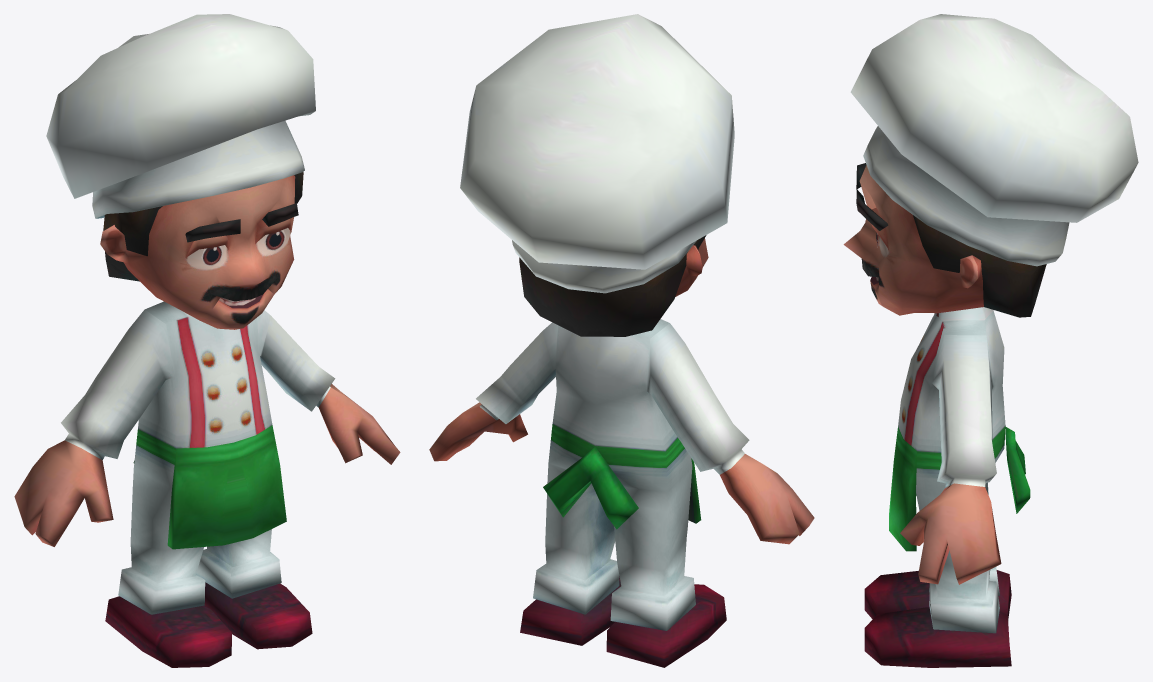
The model's file is chelf.fbx.
The picture shows the model from 3 angles, left to right: view 1: azimuth 30°, elevation 25°; view 2: azimuth 150°, elevation 25°; view 3: azimuth 270°, elevation 25°; orthographic projection.
Parts seen in each view (by area): view 1: Player_Character; view 2: Player_Character; view 3: Player_Character.
Boxes of the visible parts, left/top/right/bottom form: Player_Character: left=14, top=14, right=400, bottom=667; Player_Character: left=429, top=14, right=814, bottom=667; Player_Character: left=843, top=14, right=1138, bottom=667.
Size of the model in its own units: 35.02 by 56.01 by 24.53.
1 material, 1 textured.
